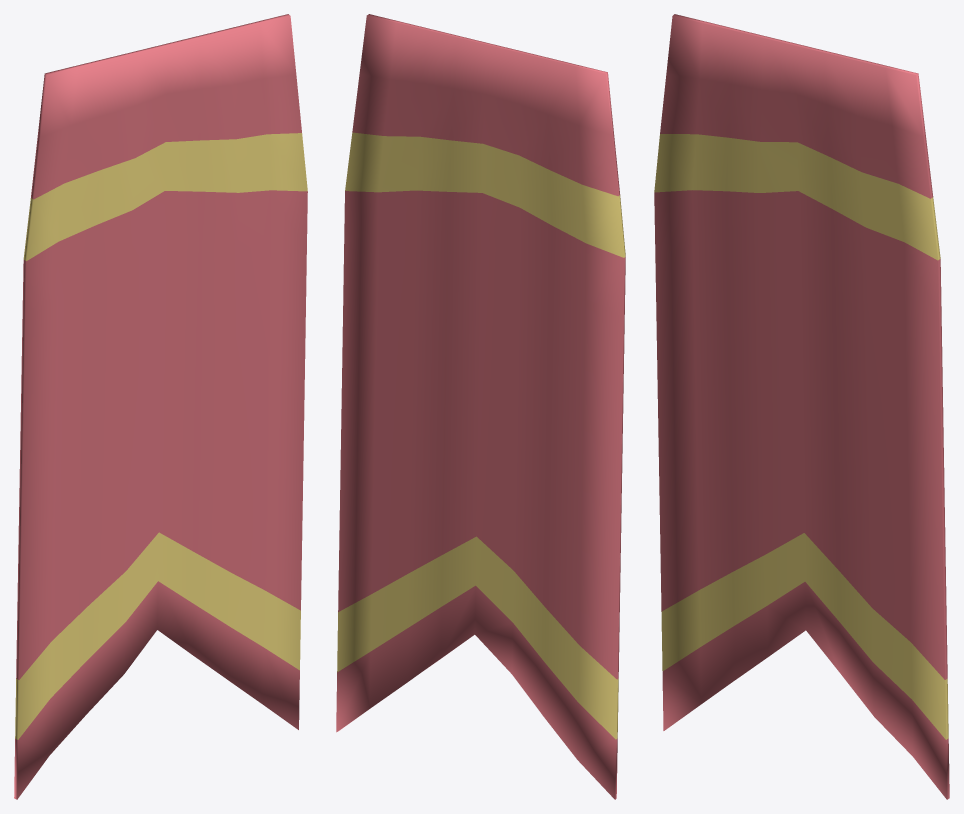
Rendered from banner_red_d.glb.
The picture shows the model from 3 angles, left to right: view 1: azimuth 30°, elevation 25°; view 2: azimuth 150°, elevation 25°; view 3: azimuth 330°, elevation 25°; orthographic projection. The views are drawn at different scales.
Visible parts, largest first — view 1: banner_red_d; view 2: banner_red_d; view 3: banner_red_d.
Boxes of the visible parts, bbox=[...] form: banner_red_d: bbox=[14, 14, 307, 799]; banner_red_d: bbox=[336, 14, 625, 799]; banner_red_d: bbox=[654, 14, 949, 799].
Size of the model in its own units: 1.1 by 2.7 by 0.1047.
